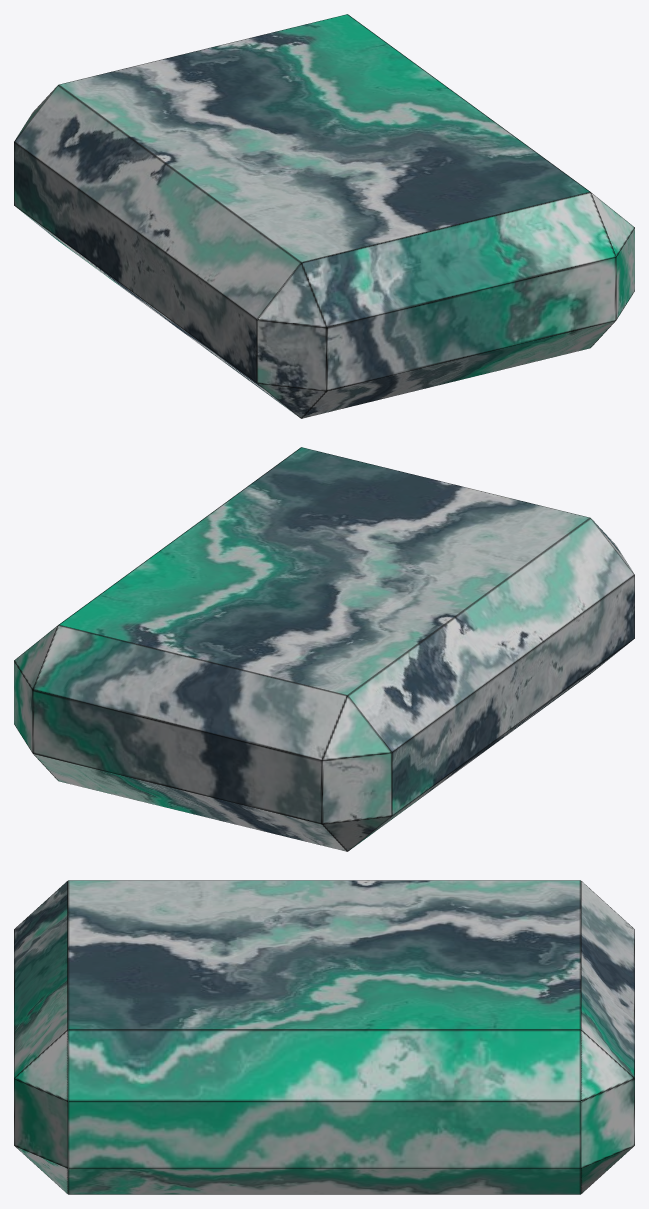
File: agate.fbx
The picture shows the model from 3 angles, top to bottom: view 1: azimuth 30°, elevation 25°; view 2: azimuth 150°, elevation 25°; view 3: azimuth 270°, elevation 25°; orthographic projection. The views are drawn at different scales.
Visible parts, largest first — view 1: Cube.001; view 2: Cube.001; view 3: Cube.001.
Boxes of the visible parts, box(x1,y1,x2,y2) form: Cube.001: box(14, 14, 634, 418); Cube.001: box(14, 447, 634, 851); Cube.001: box(14, 880, 634, 1194).
Size of the model in its own units: 85.38 by 33.73 by 115.
